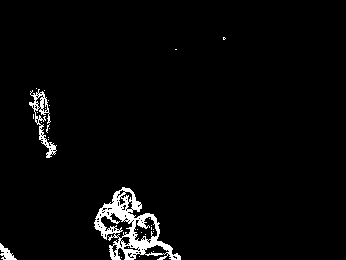person: (26, 86, 58, 159)
